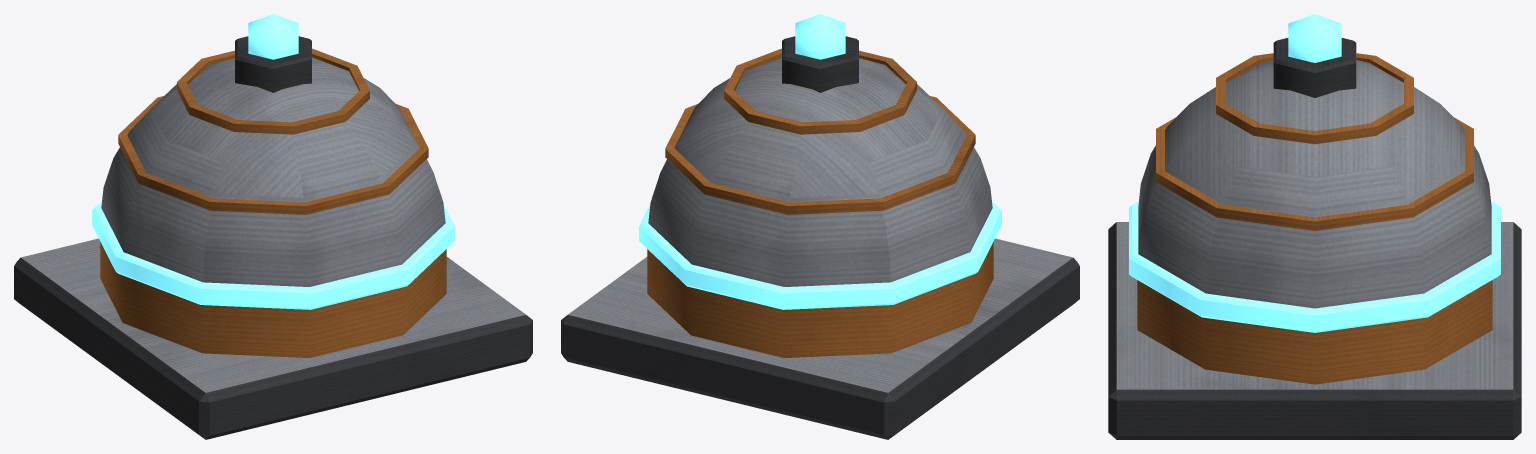
File: R4X_PersonalShield_LOD1.glb
3 views of the same model, side by side, from view 1: azimuth 30°, elevation 25°; view 2: azimuth 150°, elevation 25°; view 3: azimuth 270°, elevation 25° (orthographic). The views are drawn at different scales.
Visible parts, largest first — view 1: R4X_PersonalShield_LOD1; view 2: R4X_PersonalShield_LOD1; view 3: R4X_PersonalShield_LOD1.
Part boxes in pixels (x1,y1,x2,y2): R4X_PersonalShield_LOD1: [14, 14, 532, 439]; R4X_PersonalShield_LOD1: [561, 14, 1079, 439]; R4X_PersonalShield_LOD1: [1108, 14, 1521, 439].
Bounding box in the file's own units: 0.52 × 0.475 × 0.52.
4 materials, 3 textured.
